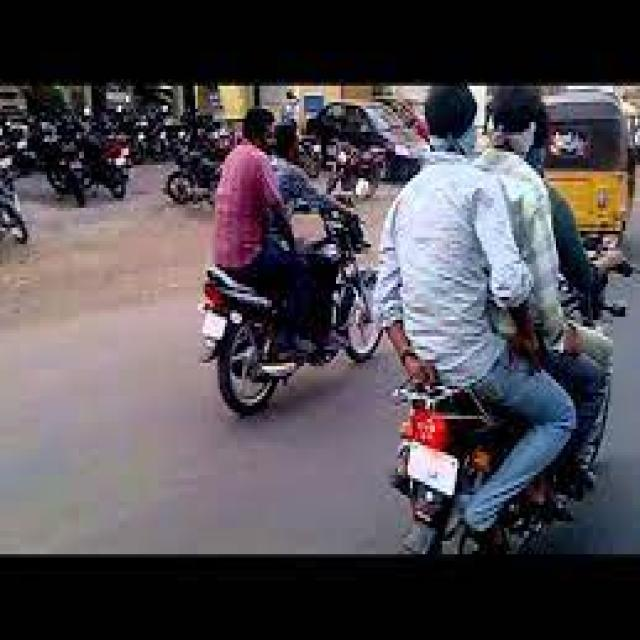Numberplate: (409, 444, 463, 502), (202, 308, 227, 342)
bike: (376, 323, 618, 577), (205, 245, 369, 393)
no_helmet: (418, 94, 486, 152), (488, 92, 546, 154), (236, 99, 276, 152), (283, 106, 301, 159)
